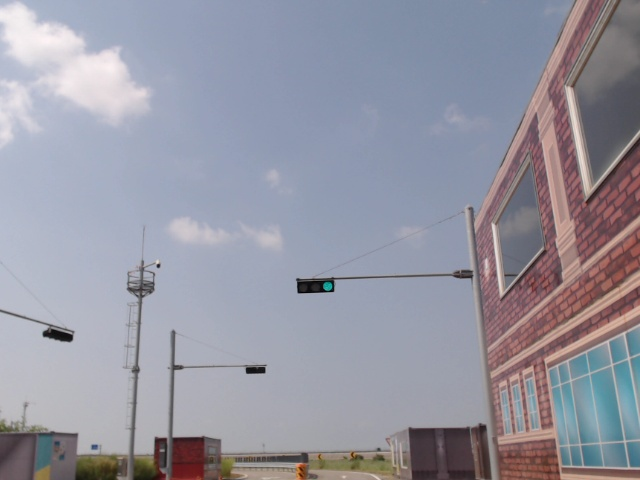green_3: (297, 281, 335, 293)
